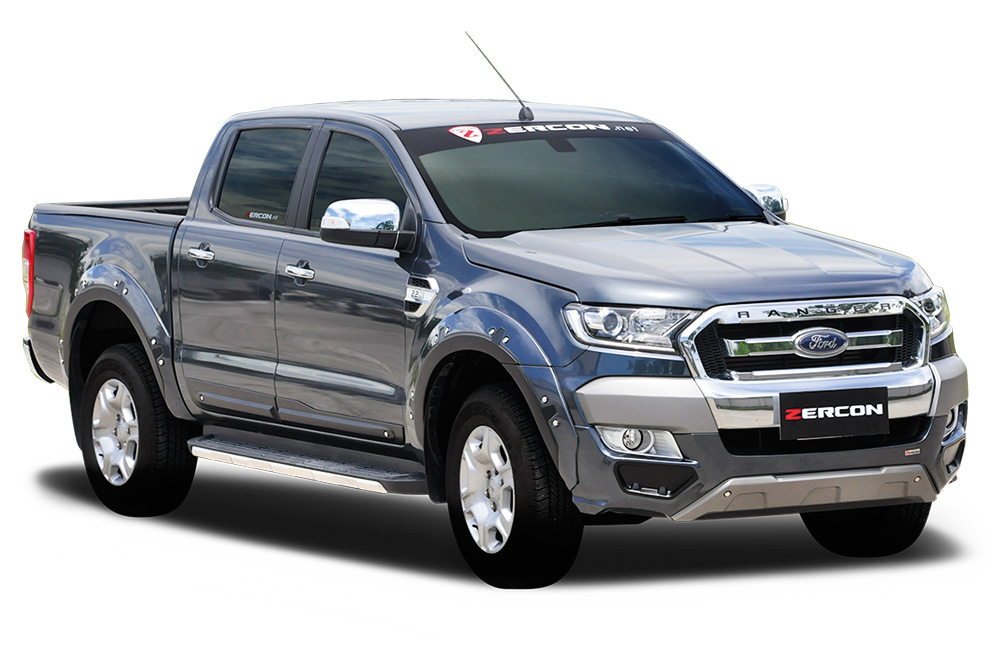pickup: (19, 90, 971, 587)
